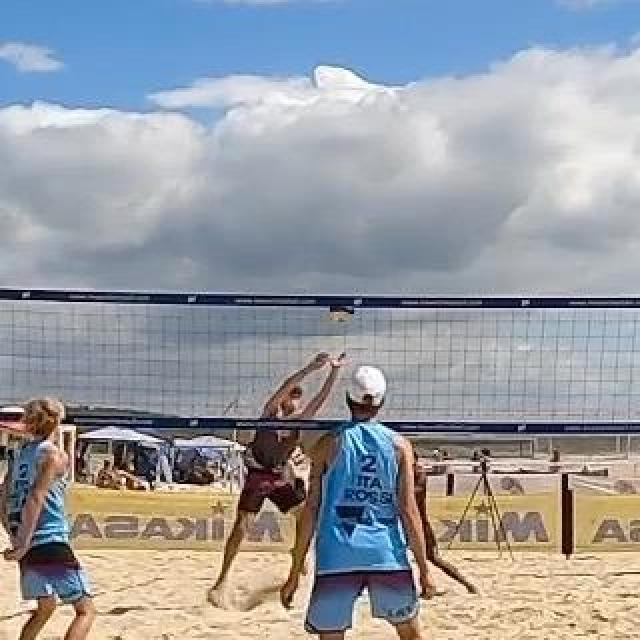volleyball: (329, 296, 355, 320)
